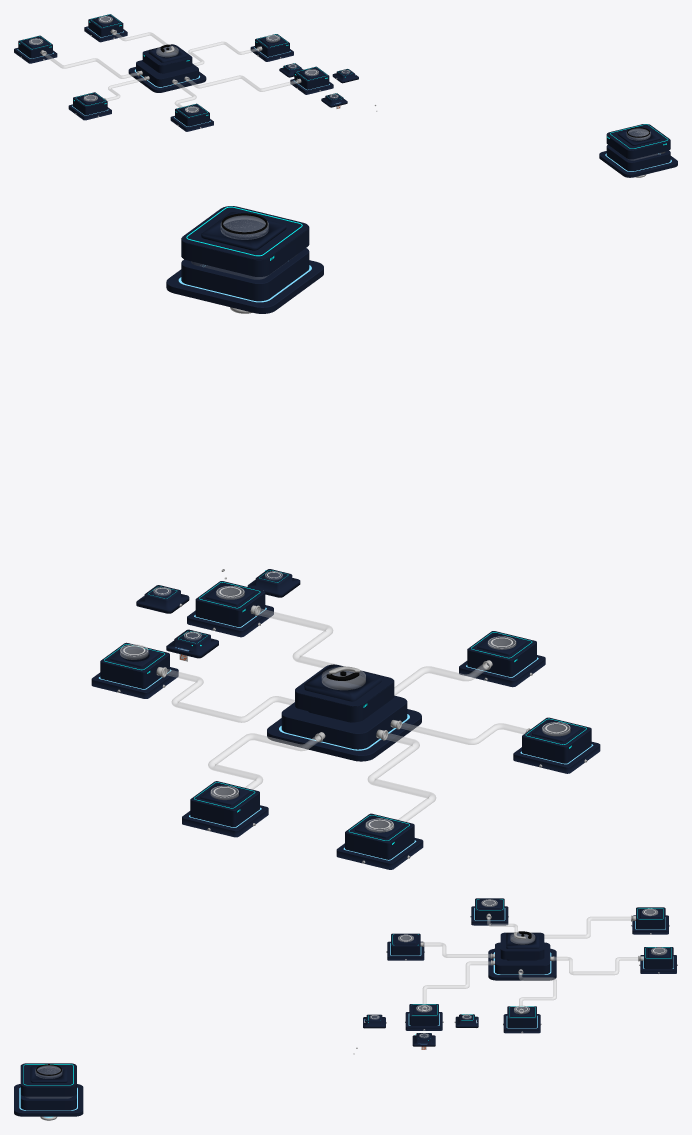
The model's file is Synehcroncity(copy)_newHub(12).glb.
3 renders of one model, top to bottom at view 1: azimuth 30°, elevation 25°; view 2: azimuth 150°, elevation 25°; view 3: azimuth 270°, elevation 25°, orthographic. The views are drawn at different scales.
Parts seen in each view (by area): view 1: Synechron_platform, Synechron_platform.001, Sub_platform_CTO_Office, Sub_platform_Ai, Sub_platform_Data, Sub_platform_Cloud_Dev_ops, Sub_platform_Digital, Sub_platform_payments, Cube.005, Plane.006, Plane.003, Cube.014 (+1 smaller); view 2: Synechron_platform, Synechron_platform.001, Sub_platform_CTO_Office, Sub_platform_payments, Sub_platform_Digital, Sub_platform_Ai, Sub_platform_Data, Sub_platform_Cloud_Dev_ops, Cube.005, Plane.003, Plane.002, Plane.004 (+5 smaller); view 3: Synechron_platform, Synechron_platform.001, Sub_platform_Ai, Sub_platform_Cloud_Dev_ops, Sub_platform_CTO_Office, Sub_platform_Data, Sub_platform_Digital, Sub_platform_payments, Cube.005, Plane.002, Plane.006, Plane.003 (+2 smaller).
Part boxes in pixels (<box>): Synechron_platform: <box>599,124,677,177</box>; Synechron_platform.001: <box>128,44,206,92</box>; Sub_platform_CTO_Office: <box>68,92,111,120</box>; Sub_platform_Ai: <box>170,103,213,131</box>; Sub_platform_Data: <box>290,66,333,94</box>; Sub_platform_Cloud_Dev_ops: <box>250,34,293,61</box>; Sub_platform_Digital: <box>84,14,127,42</box>; Sub_platform_payments: <box>14,35,57,63</box>; Cube.005: <box>617,126,660,145</box>; Plane.006: <box>186,75,298,91</box>; Plane.003: <box>43,52,138,78</box>; Cube.014: <box>148,44,187,62</box>; Synechron_platform: <box>166,206,323,313</box>; Synechron_platform.001: <box>267,665,421,761</box>; Sub_platform_CTO_Office: <box>513,717,600,773</box>; Sub_platform_payments: <box>336,813,423,869</box>; Sub_platform_Digital: <box>182,781,268,837</box>; Sub_platform_Ai: <box>459,631,545,687</box>; Sub_platform_Data: <box>187,581,273,637</box>; Sub_platform_Cloud_Dev_ops: <box>91,642,178,698</box>; Cube.005: <box>201,212,286,250</box>; Plane.003: <box>368,732,435,827</box>; Plane.002: <box>208,733,320,789</box>; Plane.004: <box>163,669,294,722</box>; Synechron_platform: <box>14,1063,83,1116</box>; Synechron_platform.001: <box>488,932,556,980</box>; Sub_platform_Ai: <box>387,933,424,960</box>; Sub_platform_Cloud_Dev_ops: <box>503,1006,540,1033</box>; Sub_platform_CTO_Office: <box>471,898,508,925</box>; Sub_platform_Data: <box>405,1004,442,1030</box>; Sub_platform_Digital: <box>640,947,676,973</box>; Sub_platform_payments: <box>632,907,668,934</box>; Cube.005: <box>30,1066,67,1082</box>; Plane.002: <box>554,957,637,974</box>; Plane.006: <box>423,961,494,1003</box>; Plane.003: <box>544,917,630,938</box>.
Size of the model in its own units: 60.56 by 7.03 by 78.7.
